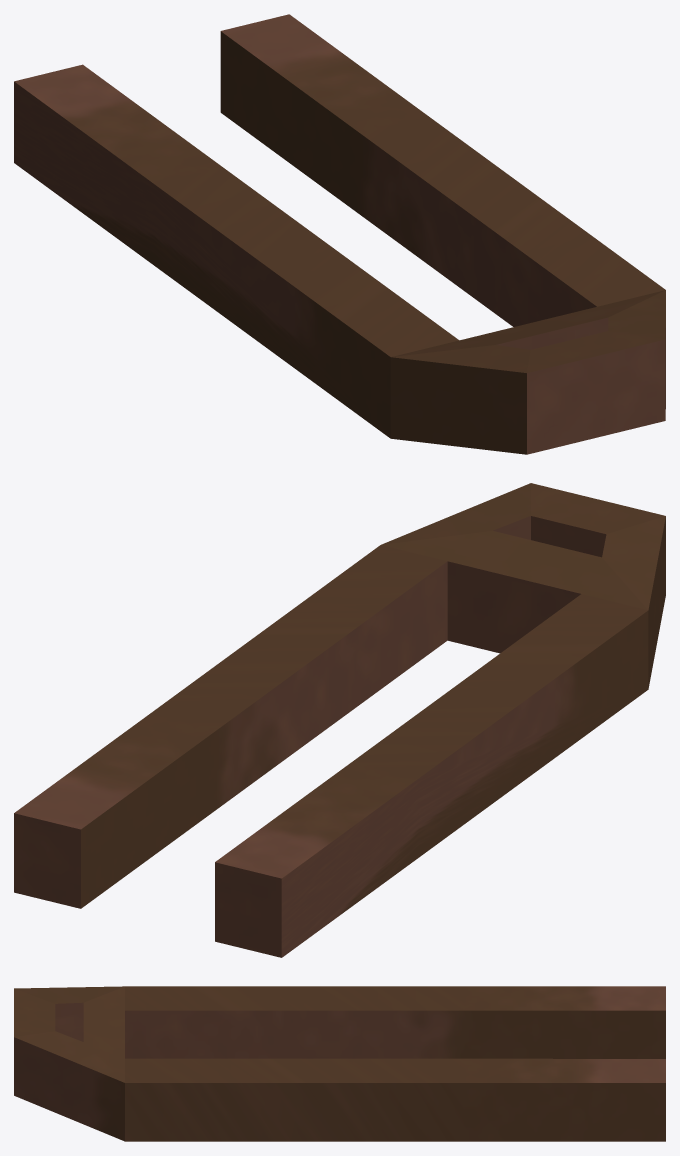
File: CartJoint.fbx
3 renders of one model, top to bottom at view 1: azimuth 30°, elevation 25°; view 2: azimuth 150°, elevation 25°; view 3: azimuth 270°, elevation 25°, orthographic. The views are drawn at different scales.
Parts seen in each view (by area): view 1: Cube; view 2: Cube; view 3: Cube.
Boxes of the visible parts, x1,y1,x2,y2 form: Cube: (14,14,665,454); Cube: (14,483,665,957); Cube: (14,986,665,1141).
Bounding box in the file's own units: 135 × 50.3 × 385.
Materials: 1 (1 with a texture image).
